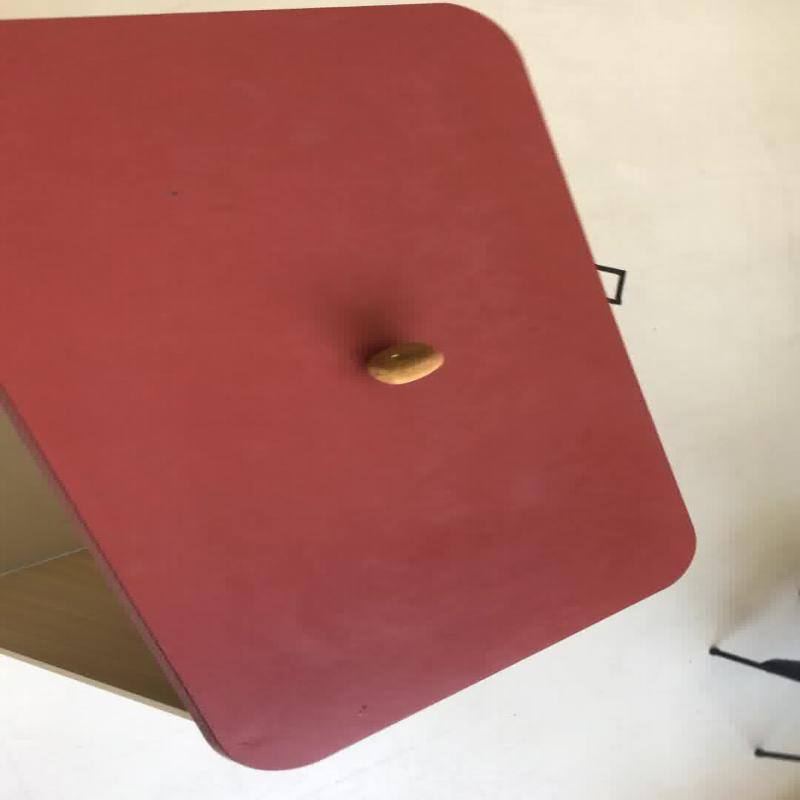kiwi: (1, 1, 698, 770), (362, 341, 444, 385)
